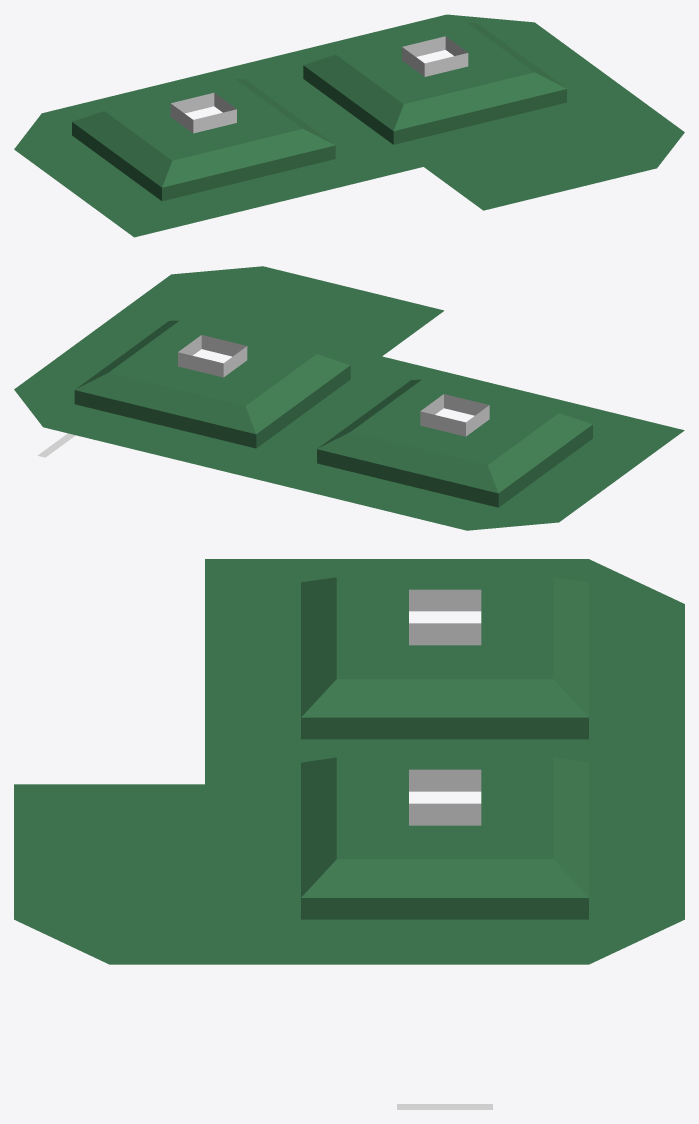
The model's file is artroom_roof.fbx.
3 views of the same model, one above another, from view 1: azimuth 30°, elevation 25°; view 2: azimuth 150°, elevation 25°; view 3: azimuth 270°, elevation 25° (orthographic). The views are drawn at different scales.
Parts seen in each view (by area): view 1: Cube.002; view 2: Cube.002; view 3: Cube.002.
Boxes of the visible parts, box(x1,y1,x2,y2) form: Cube.002: box(14, 14, 684, 237); Cube.002: box(14, 266, 684, 530); Cube.002: box(14, 559, 684, 1109).
Bounding box in the file's own units: 2030 × 470 × 1398.
